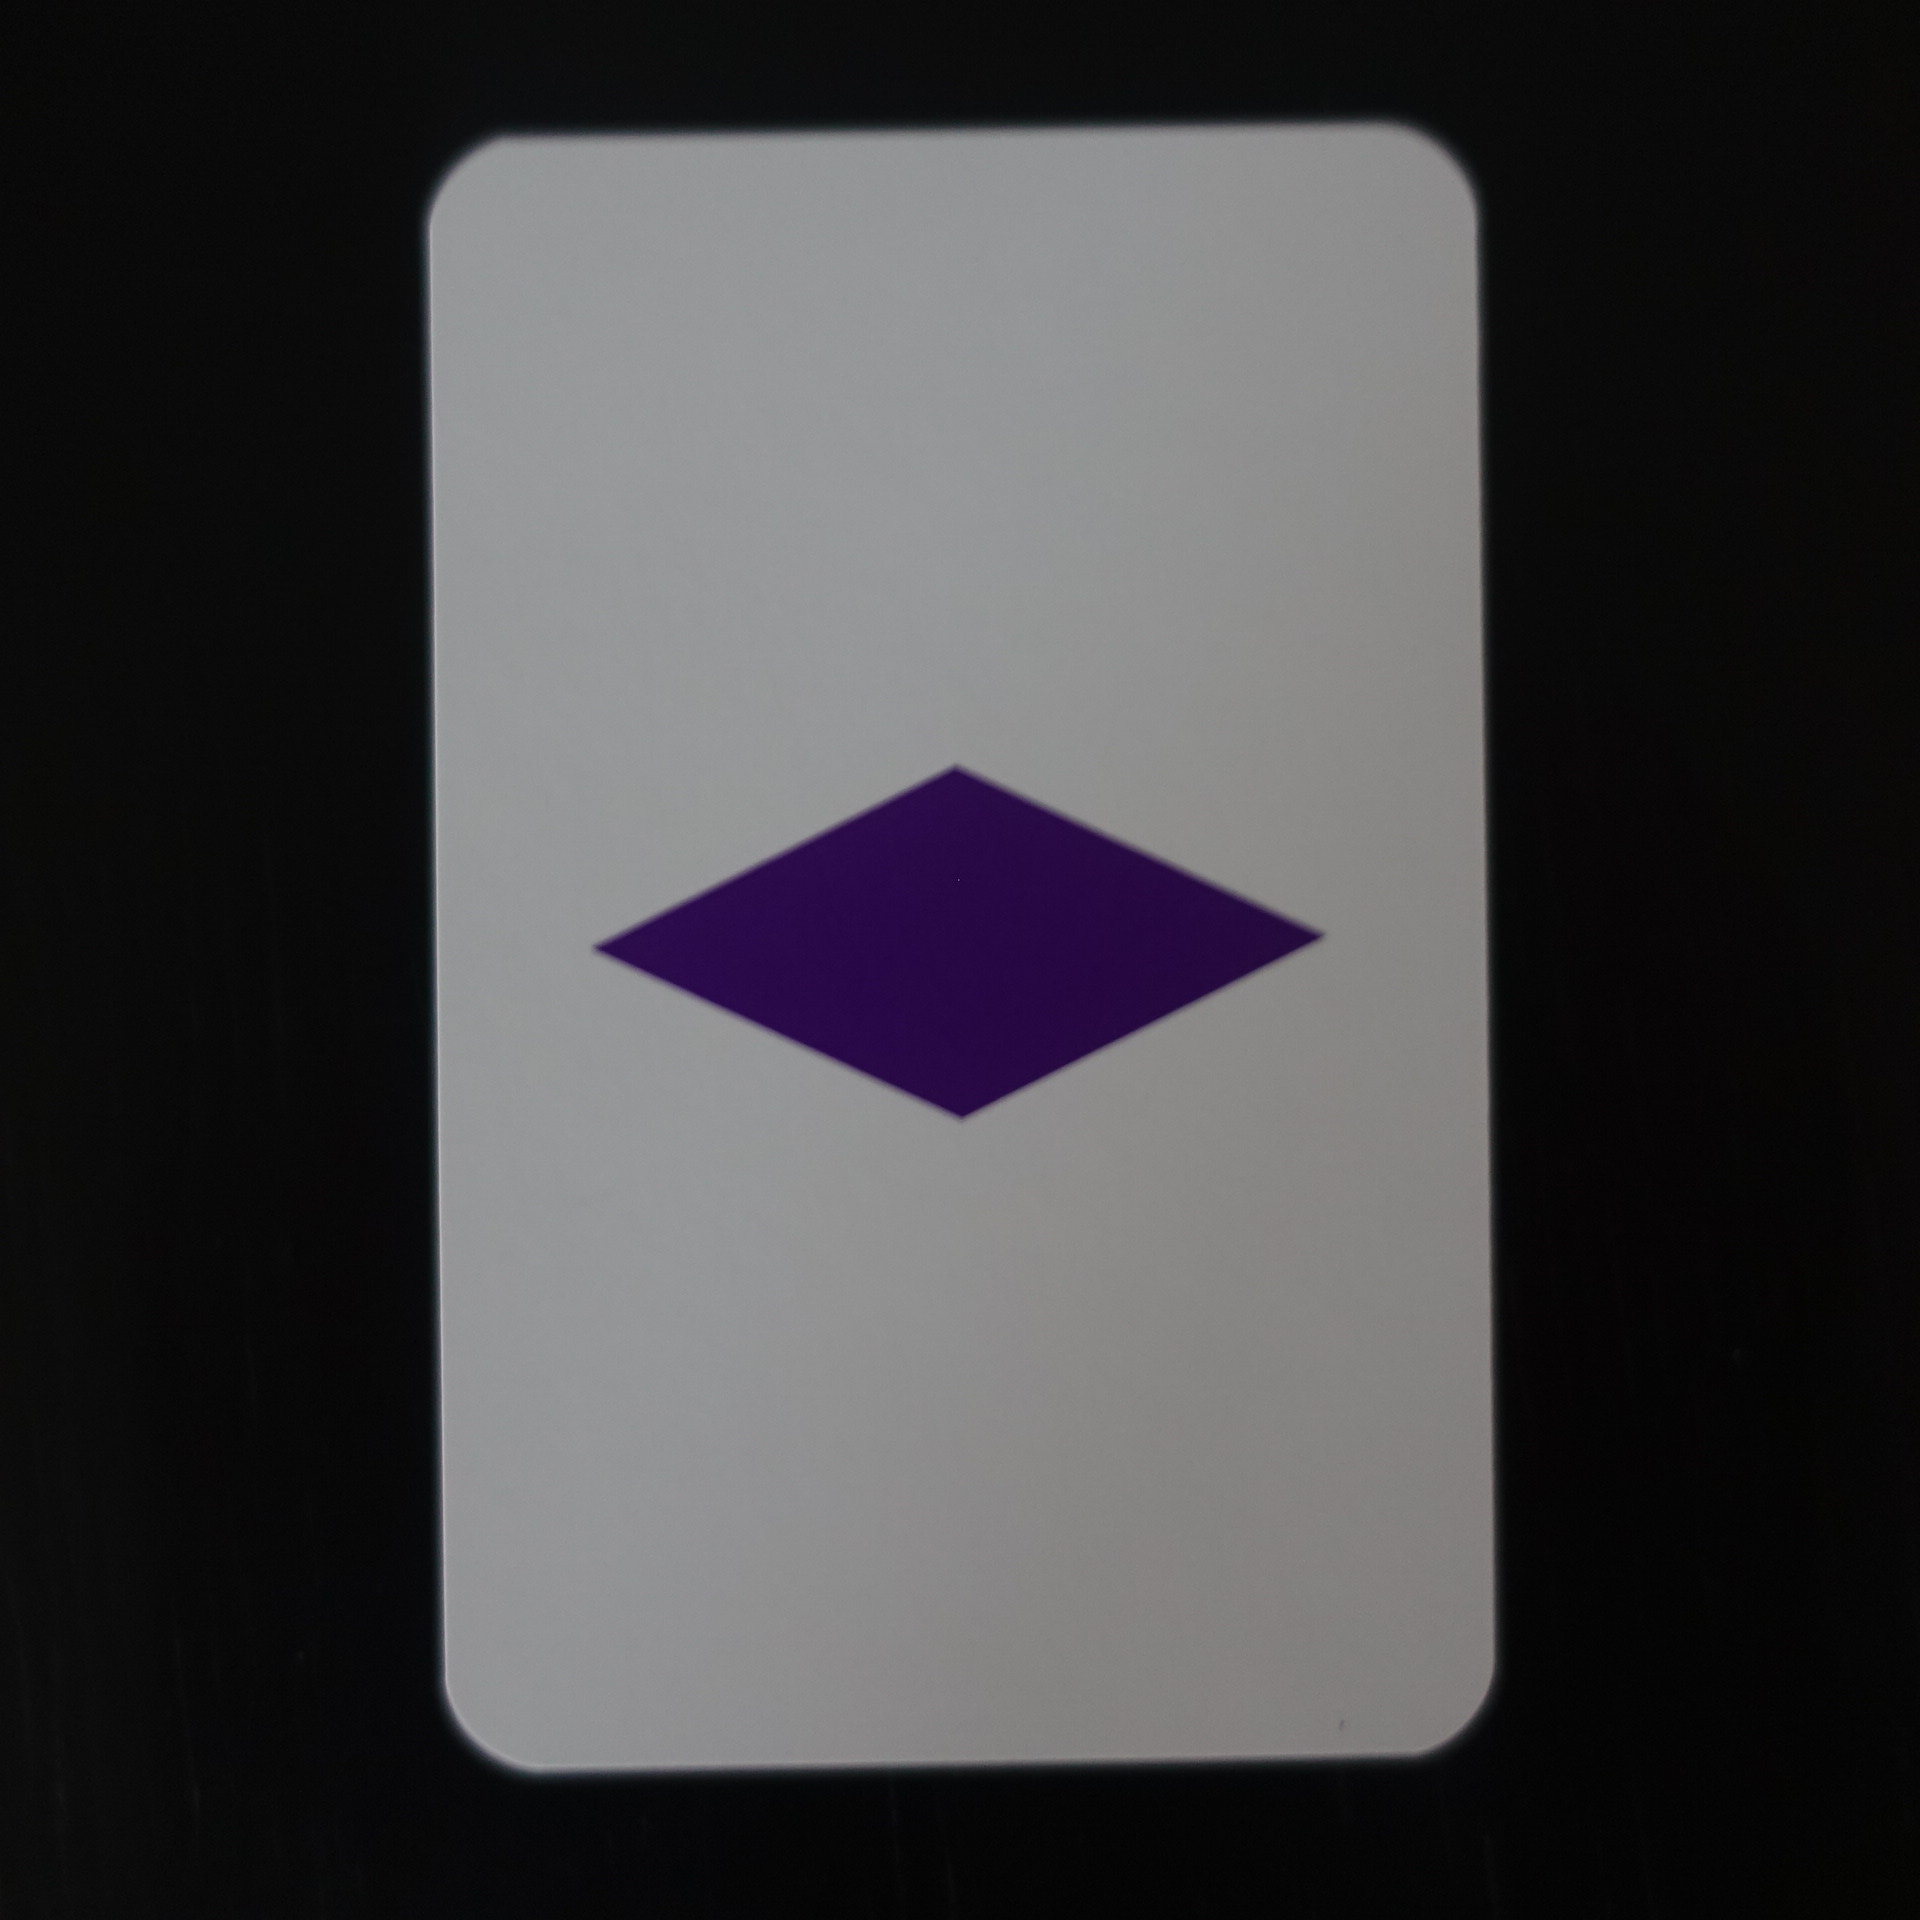c-1-f-d-p: (369, 113, 1524, 1786)
